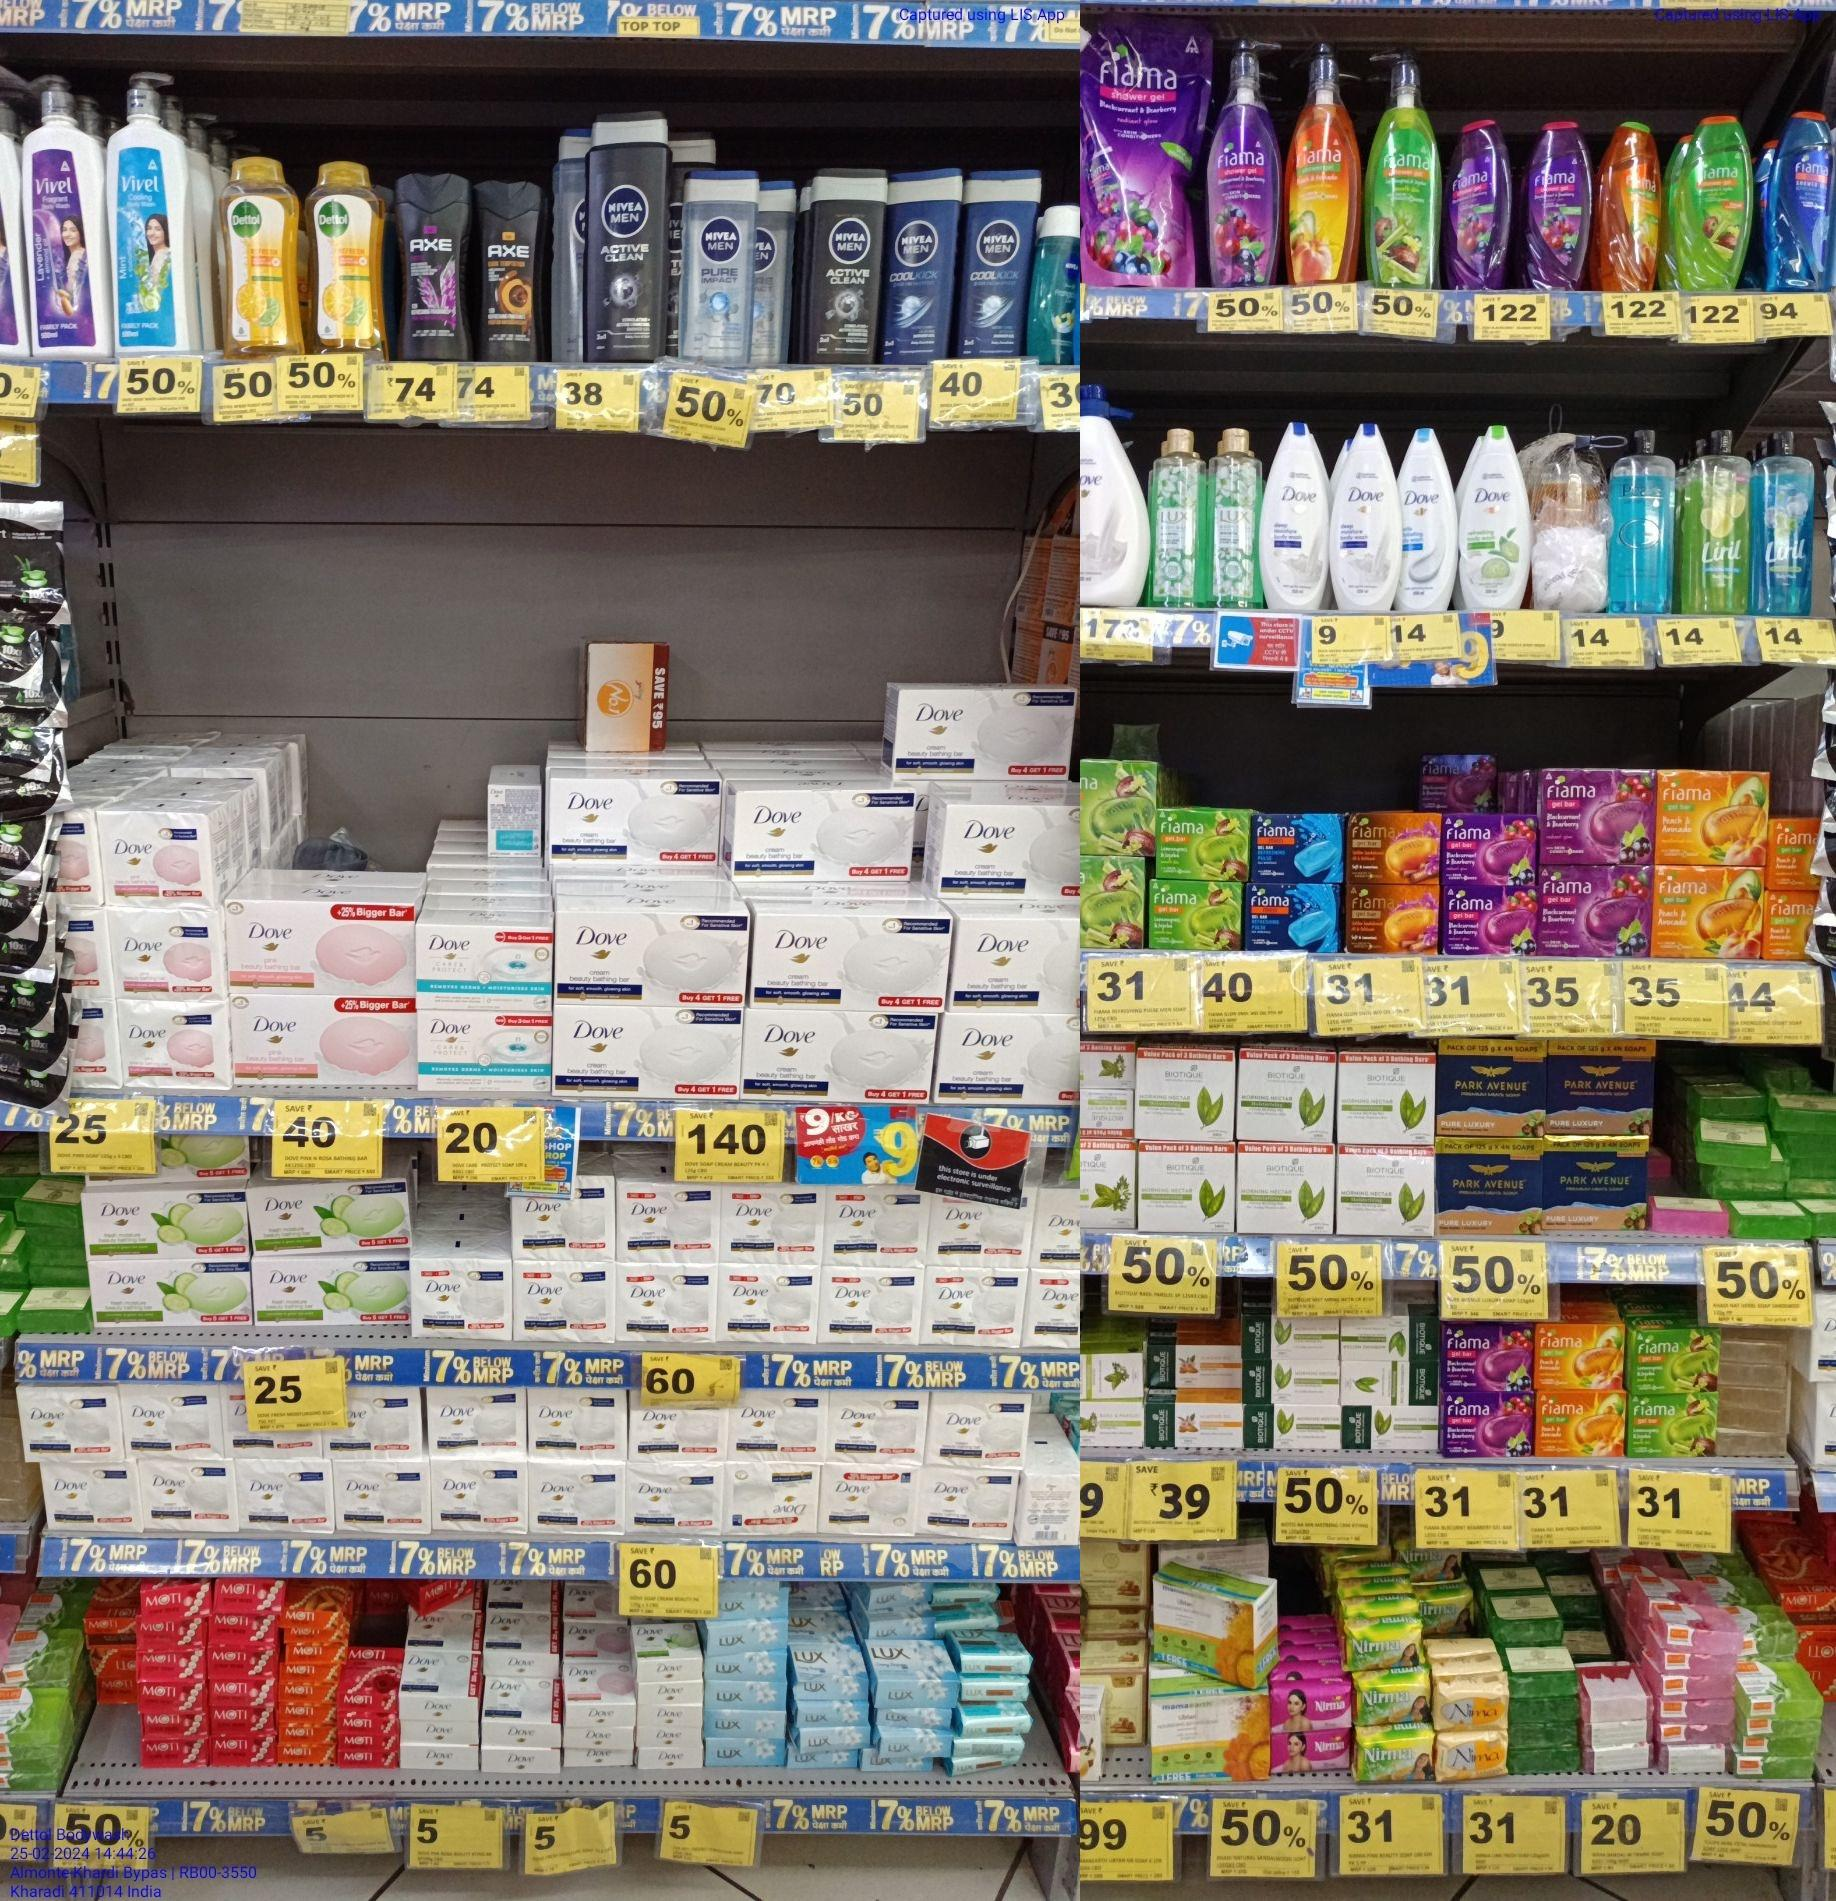Dettol_Bodywash_Refresh: (214, 154, 297, 355), (311, 163, 385, 350)
Dove_Deep_Moisture_Body_Wash_250ML: (1332, 423, 1402, 611), (1261, 421, 1329, 611)
Dove_Gentle_Exfoliating_Body_Wash_250ML: (1403, 428, 1458, 613)
Dove_Refreshing_Body_Wash_250ML: (1459, 426, 1531, 609)
Fiama_Shower_Gel_Lemongrass_and_Jojoba_250ML: (1688, 112, 1751, 292)
Fiama_Shower_Gel_Peach_and_Avocado_250ML: (1600, 119, 1665, 292)
Liril_Cooling_Mint_Body_Wash_250ML: (1756, 431, 1817, 618)
Liril_Lime_and_Tea_Tree_Oil_Body_Wash_250ML: (1690, 429, 1749, 613)
Lux_Body_Wash_Skin_Detox_Freesia_Scent_and_Alove_Vera_245ML: (1152, 429, 1208, 608), (1213, 428, 1259, 608)
Pears_Pure_Glycerin_and_Mint_Extracts_Body_Wash_250ML: (1610, 429, 1676, 611)
